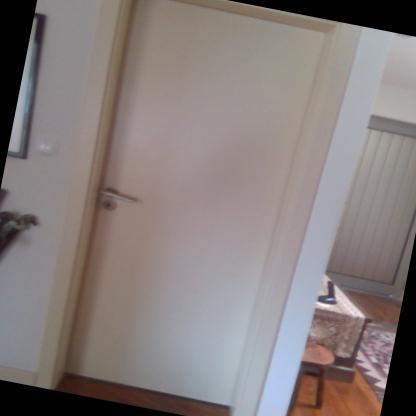closed: (25, 0, 351, 415)
